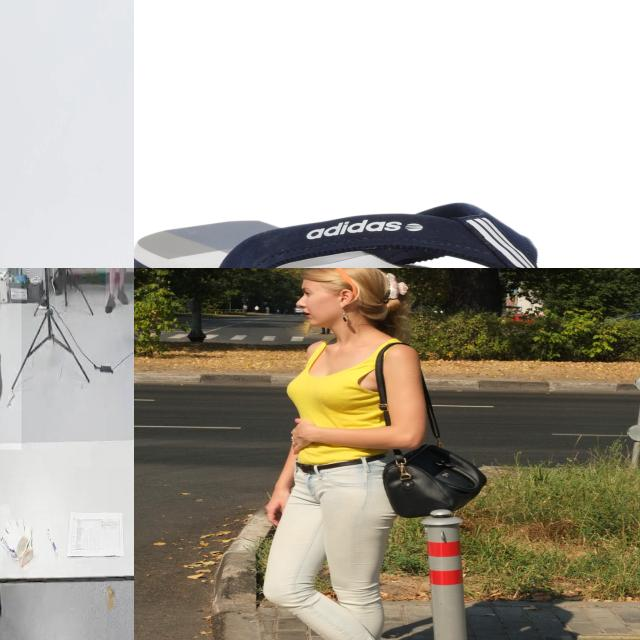Sandals: (134, 200, 640, 268)
shoes: (115, 284, 129, 308), (104, 292, 116, 314)
